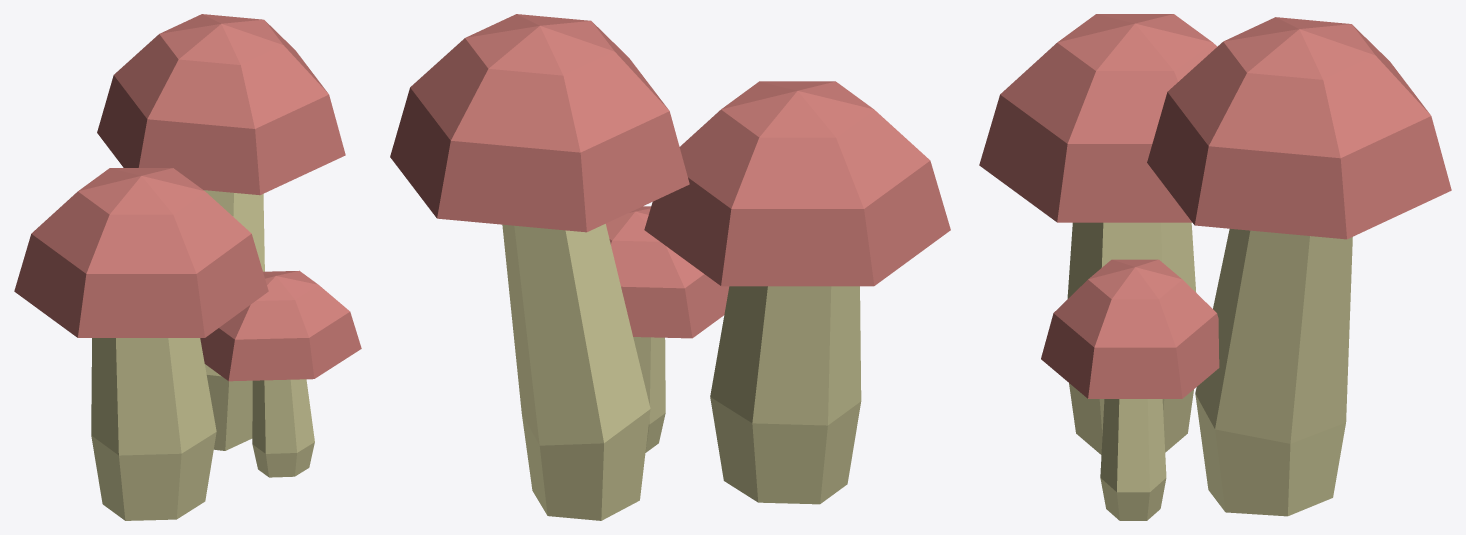
File: Mushroom.fbx
3 views of the same model, side by side, from view 1: azimuth 30°, elevation 25°; view 2: azimuth 150°, elevation 25°; view 3: azimuth 270°, elevation 25° (orthographic). The views are drawn at different scales.
Parts seen in each view (by area): view 1: Sphere.002; view 2: Sphere.002; view 3: Sphere.002.
Part boxes in pixels (x1,y1,x2,y2): Sphere.002: [14, 14, 361, 520]; Sphere.002: [390, 14, 950, 520]; Sphere.002: [979, 14, 1451, 520].
Size of the model in its own units: 42.98 by 46.82 by 41.29.
